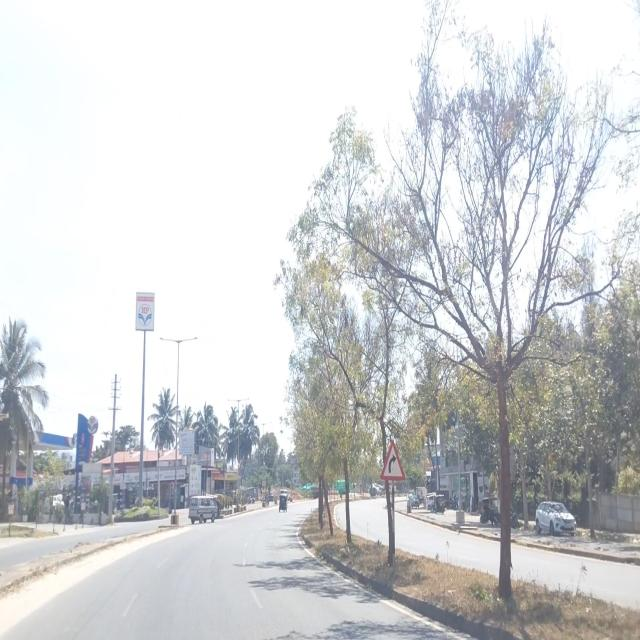bien_cam: (380, 438, 406, 482)
